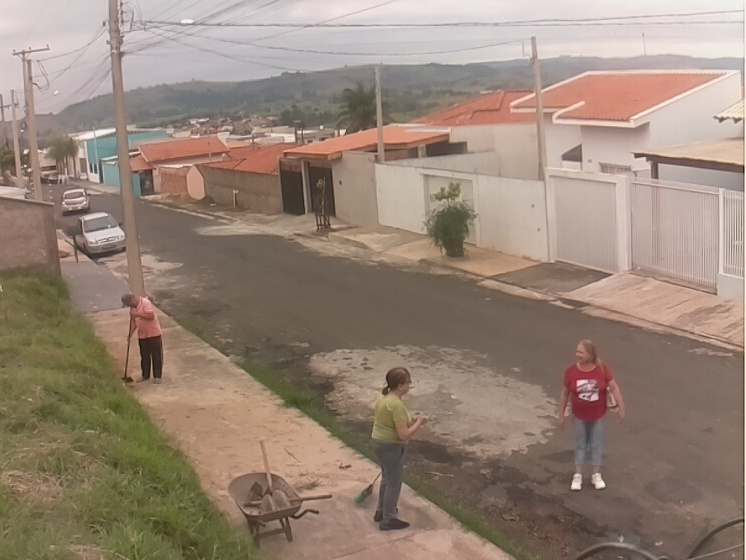person: (557, 337, 627, 494), (368, 366, 427, 530), (120, 293, 166, 386)
